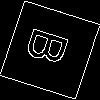B: (24, 25, 79, 72)
